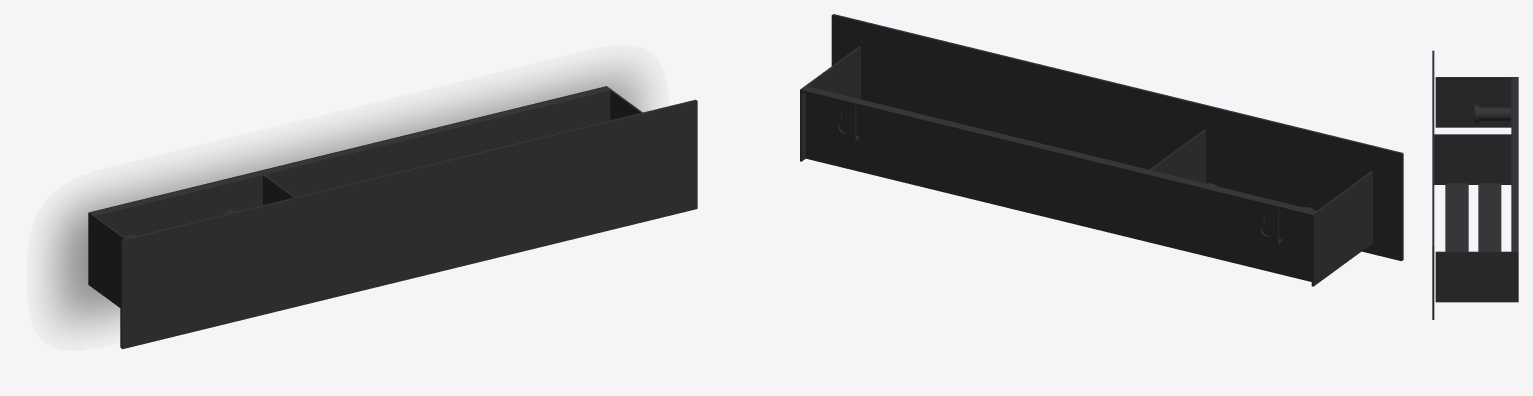
File: skyline-patron.484a05e3b9.ar.glb
3 views of the same model, side by side, from view 1: azimuth 30°, elevation 25°; view 2: azimuth 150°, elevation 25°; view 3: azimuth 270°, elevation 25° (orthographic). The views are drawn at different scales.
Visible parts, largest first — view 1: NAUO1, object 2; view 2: NAUO1; view 3: NAUO1.
Boxes of the visible parts, x1,y1,x2,y2 form: NAUO1: [88, 86, 697, 349]; object 2: [49, 70, 646, 325]; NAUO1: [800, 14, 1403, 286]; NAUO1: [1432, 50, 1518, 319].
Bounding box in the file's own units: 0.58 × 0.17 × 0.0935.
2 materials, 1 textured.
